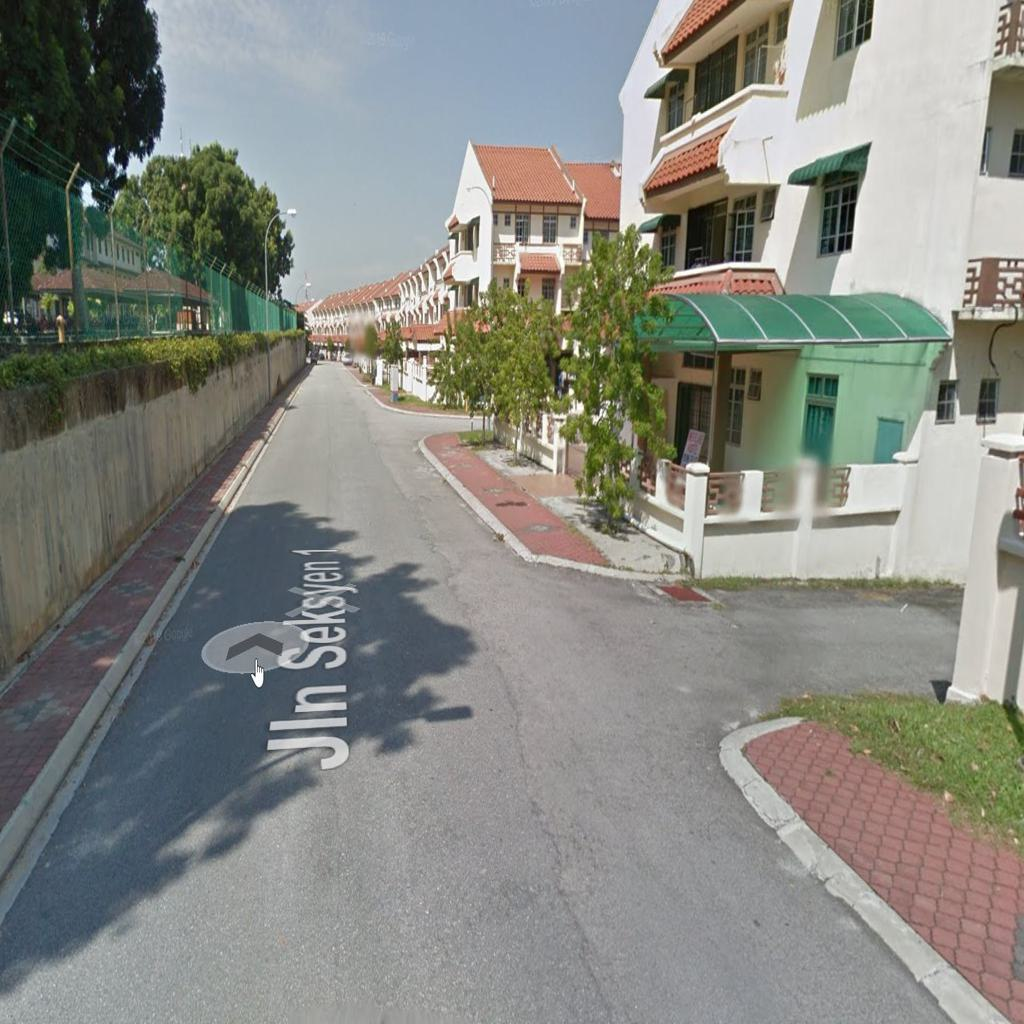Junction: (548, 528, 942, 745), (386, 385, 499, 466)
